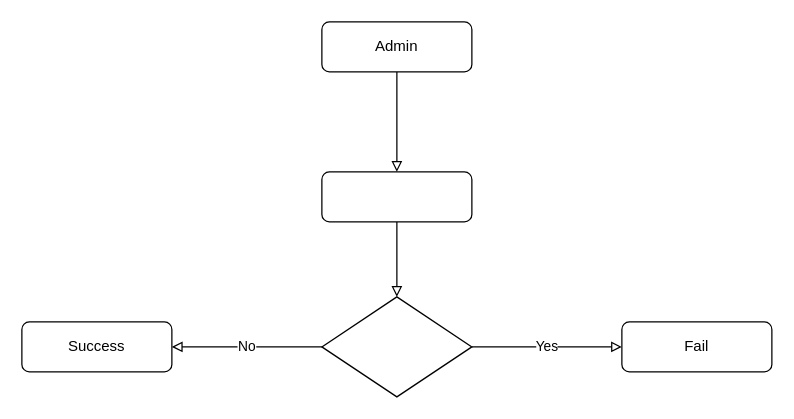
Image size: 794x419. Some labels were removed from this diagram. The shapes that lost their labels are listed below. From the top down, each one's centre as x and y in pixels, then its label:
(396,196): Renounce role
(396,346): isn't last admin
